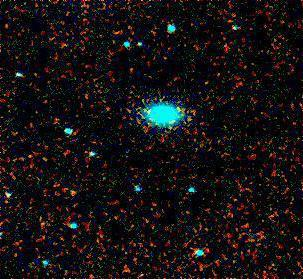star: (59, 178, 89, 208)
